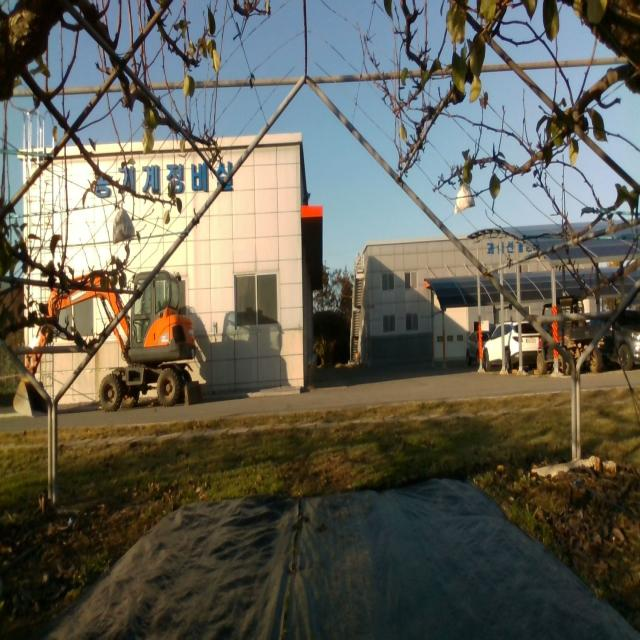pearbags: (112, 204, 135, 246), (454, 183, 475, 216)
